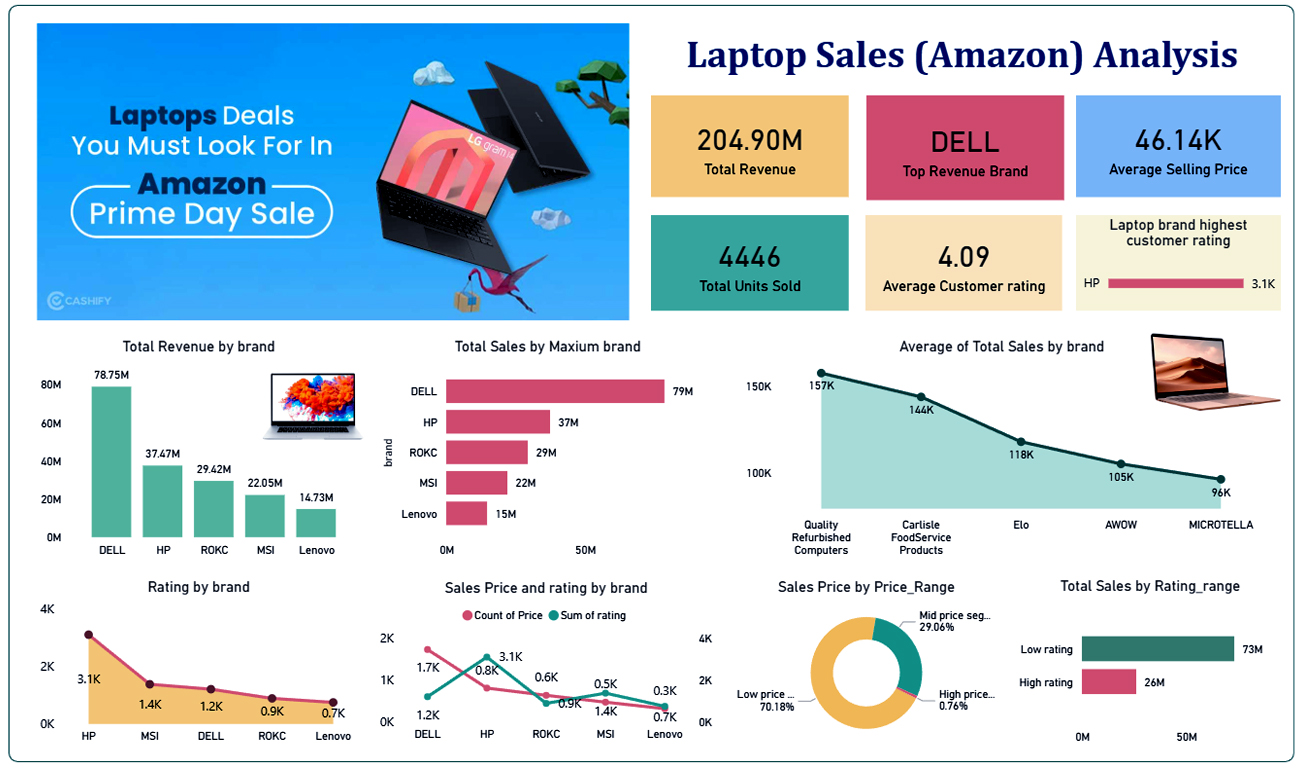

The page's visual inventory and layout, read from the dashboard file:
{"tool":"powerbi","page":{"name":"Page 1","canvas":[1290,760],"ordinal":0},"visuals":[{"type":"card","fields":{"Values":["CountNonNull(amazon_laptop_prices.Sale Product Count)"]},"box":[645.1,214.5,195.3,93.8],"z":0},{"type":"card","fields":{"Values":["Avg(amazon_laptop_prices.Total Sales)"]},"box":[1064.4,96.7,202,99.5],"z":1000},{"type":"card","fields":{"Values":["Avg(amazon_laptop_prices.rating)"]},"box":[856.7,214.4,194.3,93.8],"z":2000},{"type":"card","fields":{"Values":["amazon_laptop_prices.Top Revenue Brand"]},"box":[857.6,96.7,195.3,103.4],"z":3000},{"type":"image","box":[30.6,25.8,602.1,291.9],"z":4000},{"type":"columnChart","fields":{"Category":["amazon_laptop_prices.brand"],"Y":["amazon_laptop_prices.Total Revenue"]},"box":[37.3,335,323.5,222.1],"z":5000},{"type":"barChart","title":"Total Sales by Maxium brand","fields":{"Category":["amazon_laptop_prices.brand"],"Y":["Sum(amazon_laptop_prices.Total Sales)"]},"box":[375.2,335,336,222.1],"z":6000},{"type":"stackedAreaChart","fields":{"Category":["amazon_laptop_prices.brand"],"Y":["Avg(amazon_laptop_prices.Total Sales)"]},"box":[723.6,335,535.1,222.1],"z":7000},{"type":"stackedAreaChart","title":" Rating by brand","fields":{"Category":["amazon_laptop_prices.brand"],"Y":["Sum(amazon_laptop_prices.rating)"]},"box":[37.3,571.4,323.5,170.4],"z":8000},{"type":"lineChart","title":"Sales Price and rating by brand","fields":{"Category":["amazon_laptop_prices.brand"],"Y":["CountNonNull(amazon_laptop_prices.Price)"],"Y2":["Sum(amazon_laptop_prices.rating)"]},"box":[372.3,572.4,338.8,167.5],"z":9000},{"type":"barChart","title":"Laptop brand highest customer rating","fields":{"Category":["amazon_laptop_prices.brand"],"Y":["Sum(amazon_laptop_prices.rating)"]},"box":[1064.4,214.5,202,93.8],"z":10000},{"type":"card","fields":{"Values":["amazon_laptop_prices.Total Revenue"]},"box":[645.1,96.7,195.3,99.5],"z":11000},{"type":"donutChart","title":"Sales Price by Price_Range","fields":{"Category":["amazon_laptop_prices.Price_Range"],"Y":["Sum(amazon_laptop_prices.Price)"]},"box":[723.6,571.4,268,170.4],"z":12000},{"type":"barChart","title":"Total Sales by Rating_range","fields":{"Category":["amazon_laptop_prices.Rating_range"],"Y":["Sum(amazon_laptop_prices.Total Sales)"]},"box":[1002.2,570.5,270.9,170.4],"z":13000},{"type":"shape","box":[645.1,25.8,613.6,59.3],"z":14000},{"type":"image","box":[1138.1,317.8,128.3,102.4],"z":15000},{"type":"image","box":[262.3,358.9,98.6,87.1],"z":16000}]}

Visuals, with their boxes in screenshot pixels (x1, y1, x2, y2), scaled from the page's 1290x760 canvas onto the 1301x768 screenshot:
card - CountNonNull(amazon_laptop_prices.Sale Product Count): bbox=[651, 217, 848, 312]
card - Avg(amazon_laptop_prices.Total Sales): bbox=[1073, 98, 1277, 198]
card - Avg(amazon_laptop_prices.rating): bbox=[864, 217, 1060, 311]
card - amazon_laptop_prices.Top Revenue Brand: bbox=[865, 98, 1062, 202]
image: bbox=[31, 26, 638, 321]
columnChart - amazon_laptop_prices.brand x amazon_laptop_prices.Total Revenue: bbox=[38, 339, 364, 563]
"Total Sales by Maxium brand" barChart: bbox=[378, 339, 717, 563]
stackedAreaChart - amazon_laptop_prices.brand x Avg(amazon_laptop_prices.Total Sales): bbox=[730, 339, 1269, 563]
" Rating by brand" stackedAreaChart: bbox=[38, 577, 364, 750]
"Sales Price and rating by brand" lineChart: bbox=[375, 578, 717, 748]
"Laptop brand highest customer rating" barChart: bbox=[1073, 217, 1277, 312]
card - amazon_laptop_prices.Total Revenue: bbox=[651, 98, 848, 198]
"Sales Price by Price_Range" donutChart: bbox=[730, 577, 1000, 750]
"Total Sales by Rating_range" barChart: bbox=[1011, 577, 1284, 749]
shape: bbox=[651, 26, 1269, 86]
image: bbox=[1148, 321, 1277, 425]
image: bbox=[265, 363, 364, 451]
